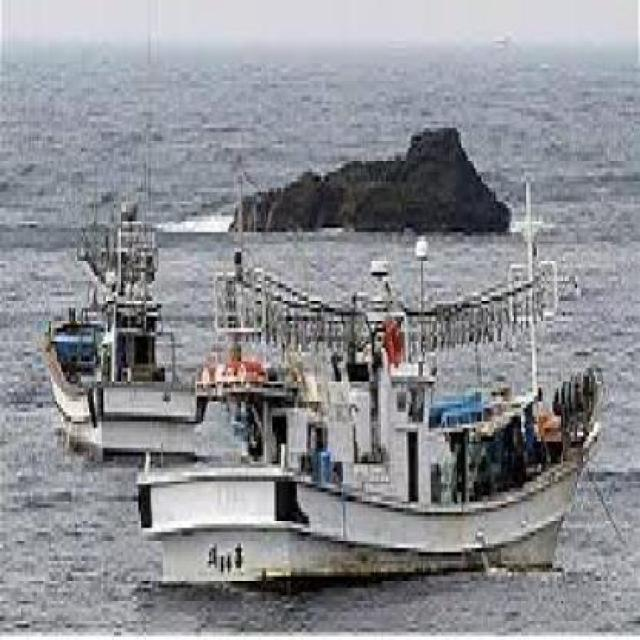fish-b: (125, 165, 617, 612), (52, 97, 215, 465)
